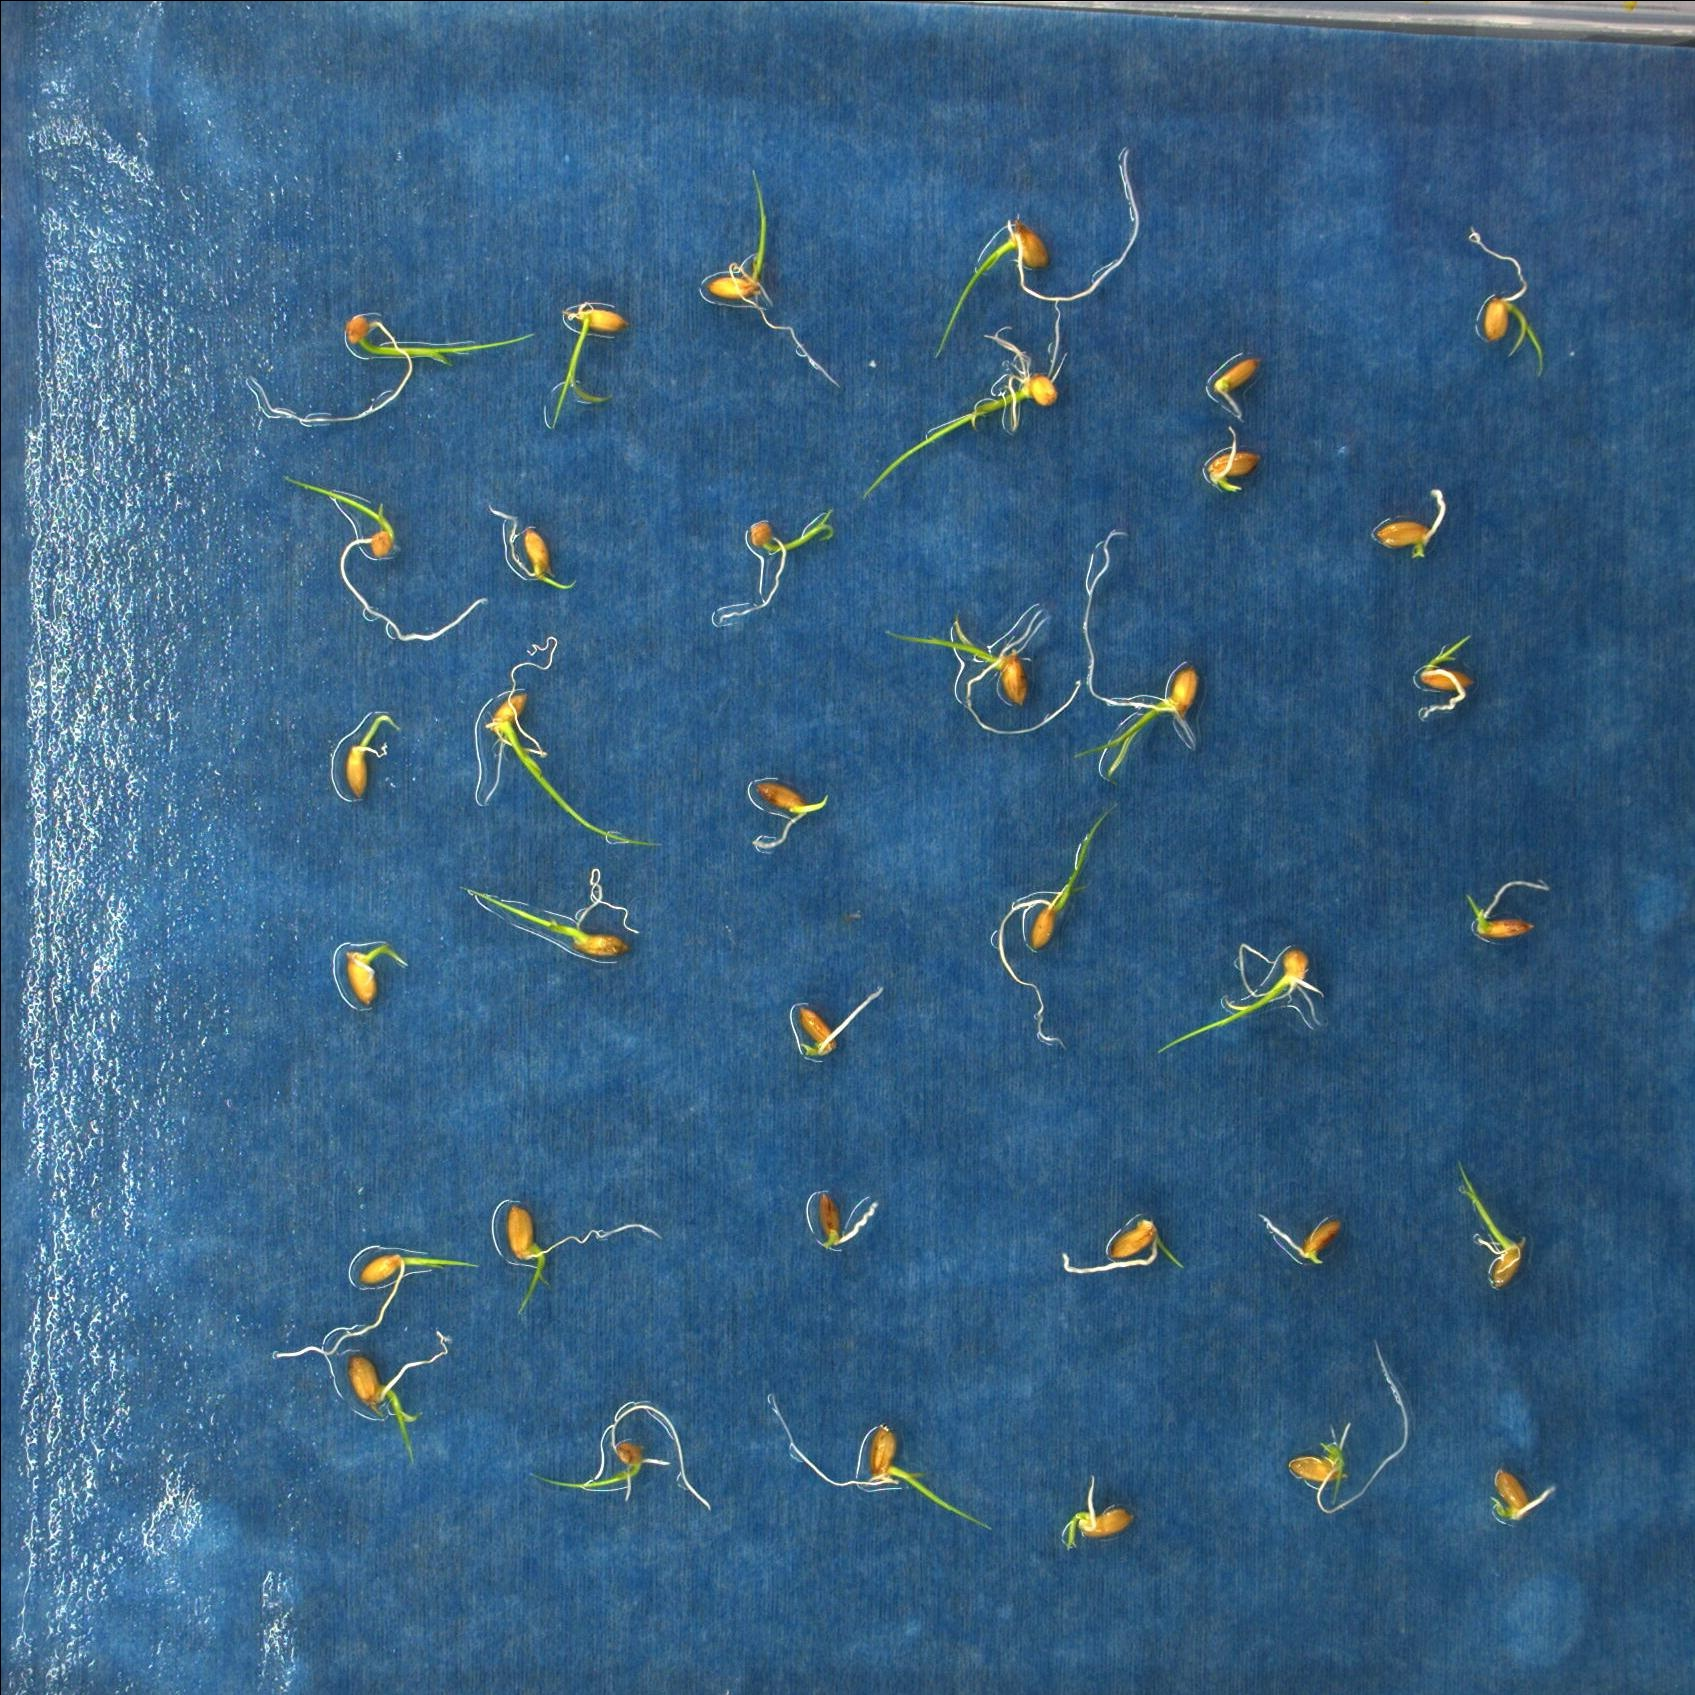not sprout: (784, 987, 893, 1073), (1374, 484, 1465, 570), (1468, 880, 1554, 964), (804, 1178, 882, 1254), (1260, 1201, 1346, 1270), (1208, 354, 1270, 418)
sprout: (841, 298, 1083, 520), (467, 627, 652, 860), (938, 147, 1144, 354), (1063, 520, 1211, 795), (242, 279, 536, 414), (275, 466, 494, 641), (698, 152, 841, 390), (762, 1400, 1000, 1540), (993, 796, 1121, 1049), (886, 590, 1077, 745), (1149, 917, 1343, 1060), (269, 1236, 464, 1363), (498, 1200, 674, 1338), (455, 854, 658, 970), (705, 490, 849, 647), (1288, 1343, 1412, 1523), (543, 1399, 711, 1518), (1447, 206, 1557, 383), (331, 1329, 438, 1468), (1468, 1167, 1565, 1310), (542, 290, 635, 436), (1057, 1203, 1187, 1281), (483, 498, 582, 596), (329, 927, 408, 1020), (324, 709, 407, 798), (1055, 1470, 1139, 1552), (748, 771, 830, 852), (1191, 428, 1273, 508), (1411, 652, 1473, 736), (1485, 1464, 1557, 1527)
